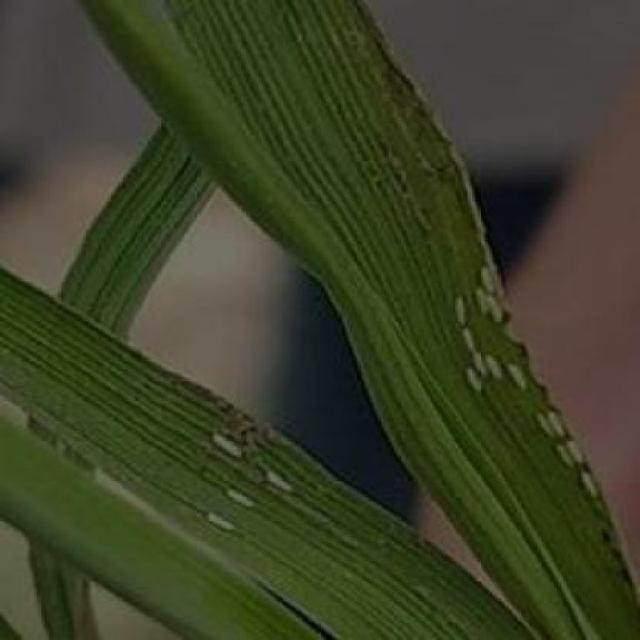whorl-maggot: (191, 505, 244, 543), (217, 473, 266, 513), (200, 429, 251, 465), (496, 360, 538, 391), (259, 464, 296, 496), (473, 264, 507, 298), (561, 434, 588, 472), (574, 468, 608, 498), (454, 360, 483, 394), (446, 290, 469, 328), (529, 412, 556, 443), (459, 329, 484, 362)
